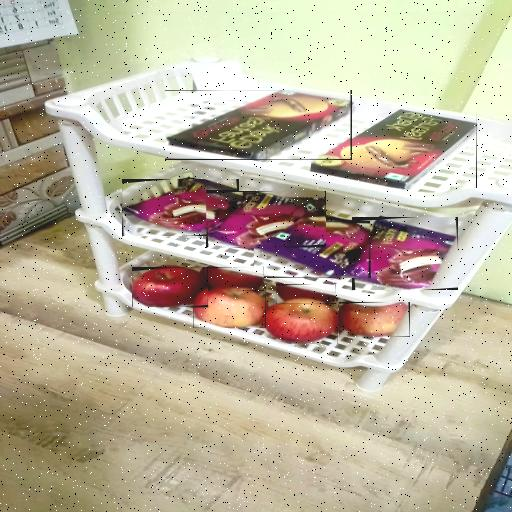Apple: (264, 298, 338, 344), (132, 267, 208, 307), (193, 287, 266, 328), (339, 302, 410, 337), (202, 267, 264, 291), (276, 284, 336, 304)
Choco Fills: (311, 108, 477, 188), (165, 90, 352, 160)
Choco Pie: (352, 217, 458, 290), (122, 180, 239, 238), (254, 221, 370, 278), (207, 192, 325, 247)
